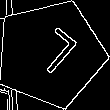L_SW: (22, 25, 79, 83)
